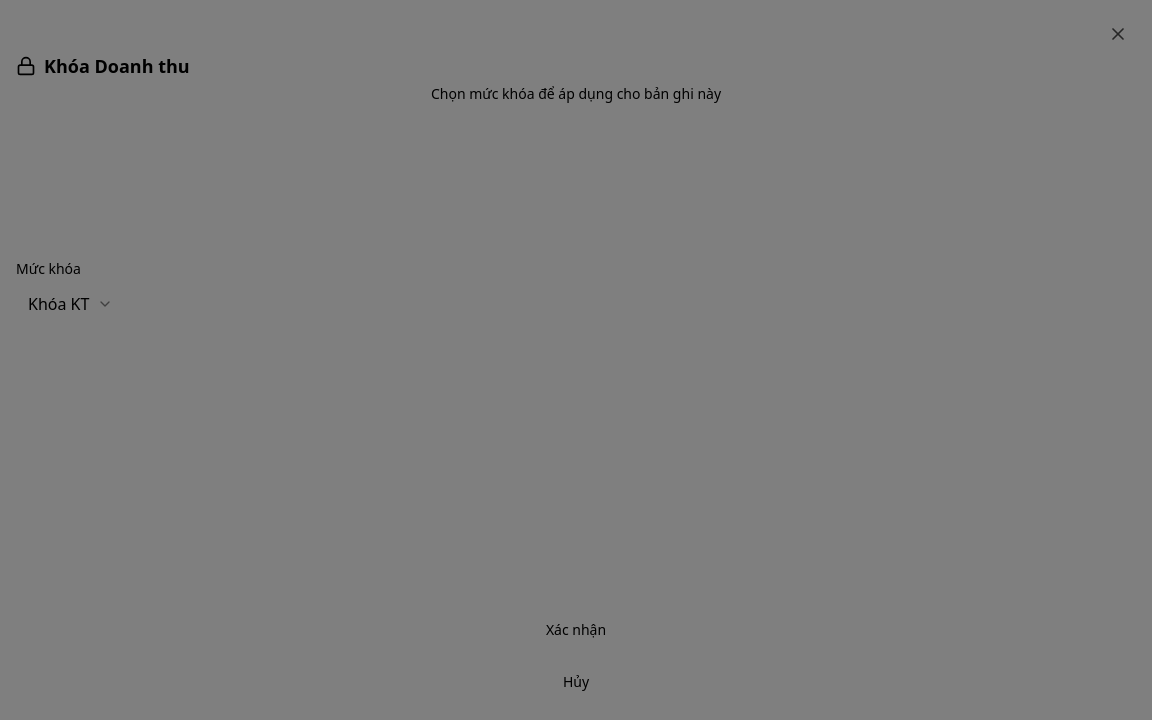
Scenario: RevenueLockDialog › Error Handling › displays error on API failure
Click the button "Xác nhận" at (576, 630), box [16,608,1136,652]
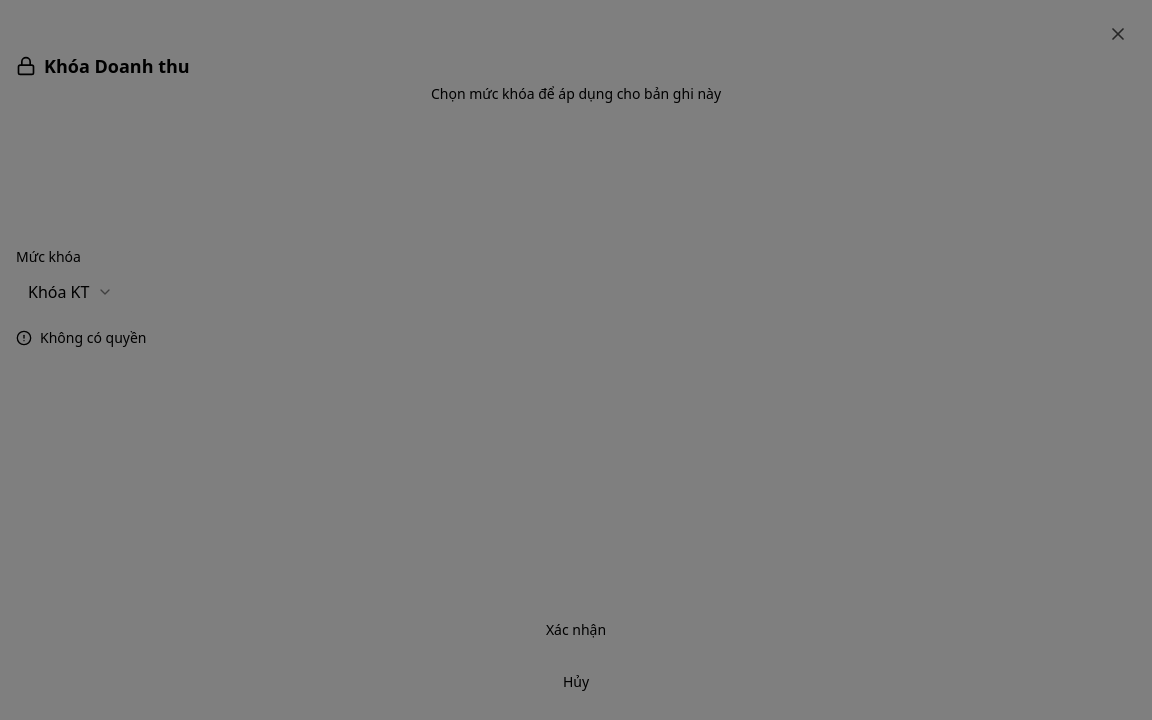
Now the text "Không có quyền" is shown, box [16,328,146,347]
